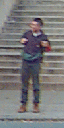person: (16, 15, 49, 113)
